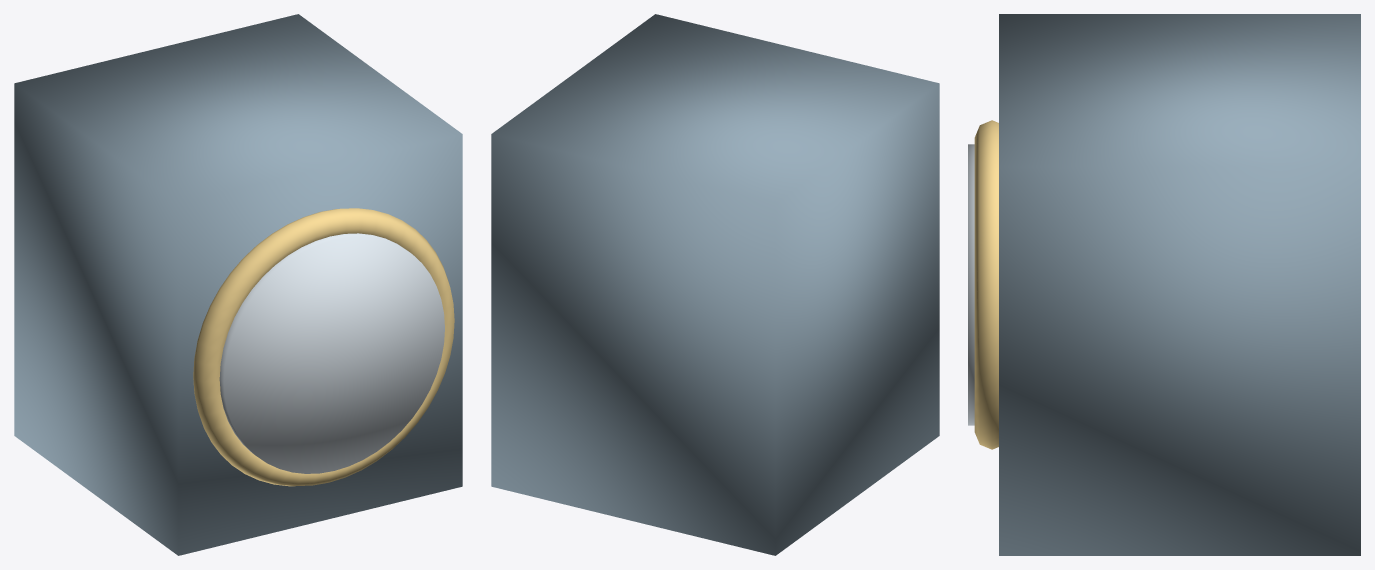
Rendered from 81_L92_VacuumSampleAirlock.glb.
3 renders of one model, left to right at view 1: azimuth 30°, elevation 25°; view 2: azimuth 150°, elevation 25°; view 3: azimuth 270°, elevation 25°, orthographic. The views are drawn at different scales.
Visible parts, largest first — view 1: L92_VacuumSampleAirlock, L92_VacuumSampleAirlock_Part_0002, L92_VacuumSampleAirlock_Part_0001; view 2: L92_VacuumSampleAirlock; view 3: L92_VacuumSampleAirlock, L92_VacuumSampleAirlock_Part_0001, L92_VacuumSampleAirlock_Part_0002.
Part boxes in pixels (left/top/right/bottom): L92_VacuumSampleAirlock: left=14, top=14, right=462, bottom=555; L92_VacuumSampleAirlock_Part_0002: left=219, top=233, right=444, bottom=473; L92_VacuumSampleAirlock_Part_0001: left=193, top=208, right=454, bottom=486; L92_VacuumSampleAirlock: left=491, top=14, right=939, bottom=555; L92_VacuumSampleAirlock: left=999, top=14, right=1360, bottom=555; L92_VacuumSampleAirlock_Part_0001: left=974, top=120, right=998, bottom=449; L92_VacuumSampleAirlock_Part_0002: left=968, top=144, right=974, bottom=425.
Bounding box in the file's own units: 2.7 × 3.2 × 2.93.
